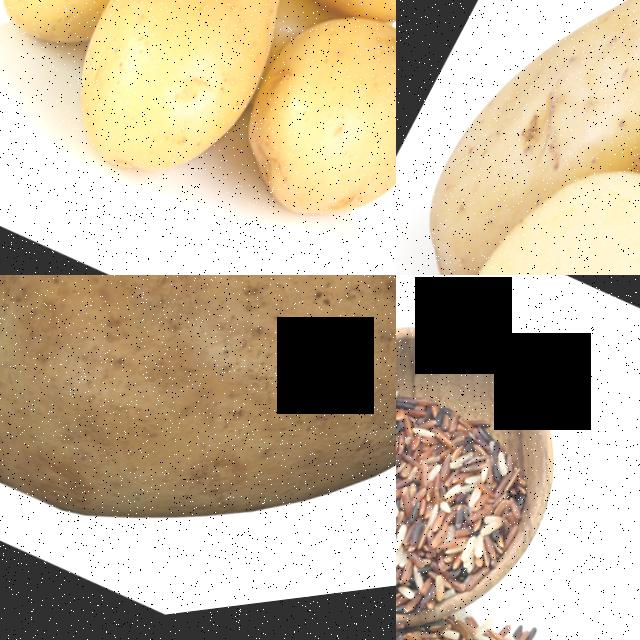potato: (0, 275, 396, 640), (31, 0, 331, 229), (207, 0, 396, 275), (482, 0, 640, 264), (398, 120, 640, 275), (0, 0, 187, 84)
red rice: (396, 357, 544, 640), (396, 470, 538, 640)
